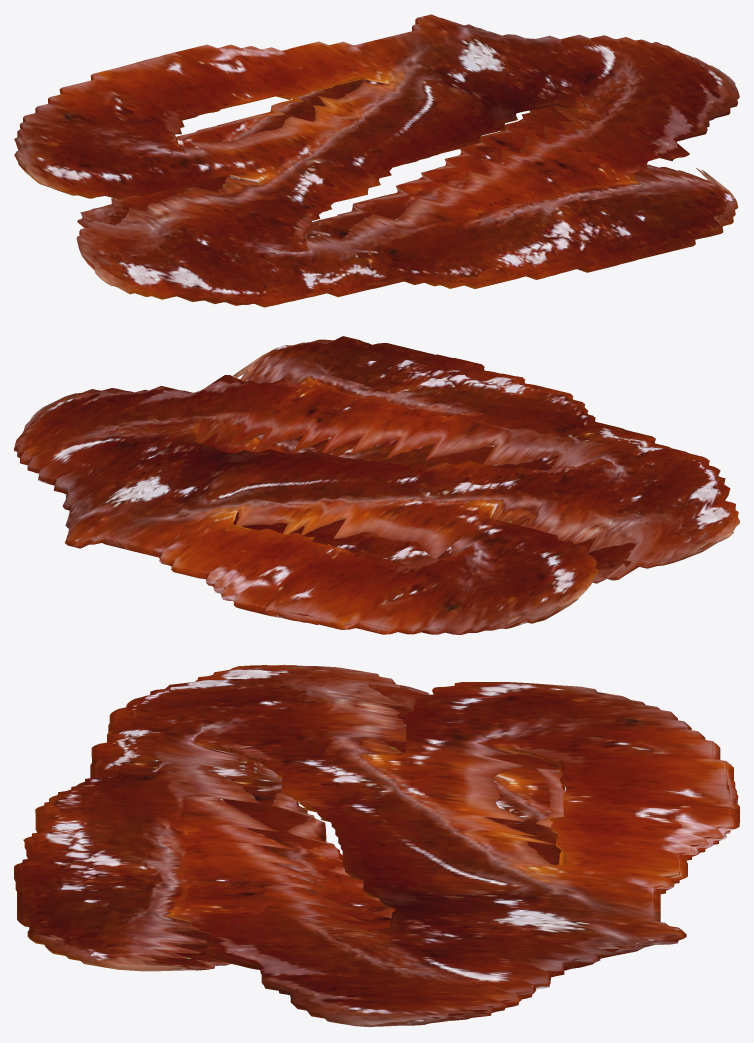
The model's file is bbq.glb.
3 renders of one model, top to bottom at view 1: azimuth 30°, elevation 25°; view 2: azimuth 150°, elevation 25°; view 3: azimuth 270°, elevation 25°, orthographic. The views are drawn at different scales.
Visible parts, largest first — view 1: bbq; view 2: bbq; view 3: bbq.
Boxes of the visible parts, x1=… form: bbq: x1=14, y1=14, x2=739, y2=307; bbq: x1=14, y1=336, x2=739, y2=634; bbq: x1=14, y1=664, x2=739, y2=1027.
Bounding box in the file's own units: 0.99 × 0.038 × 0.83.
1 material, 1 textured.
